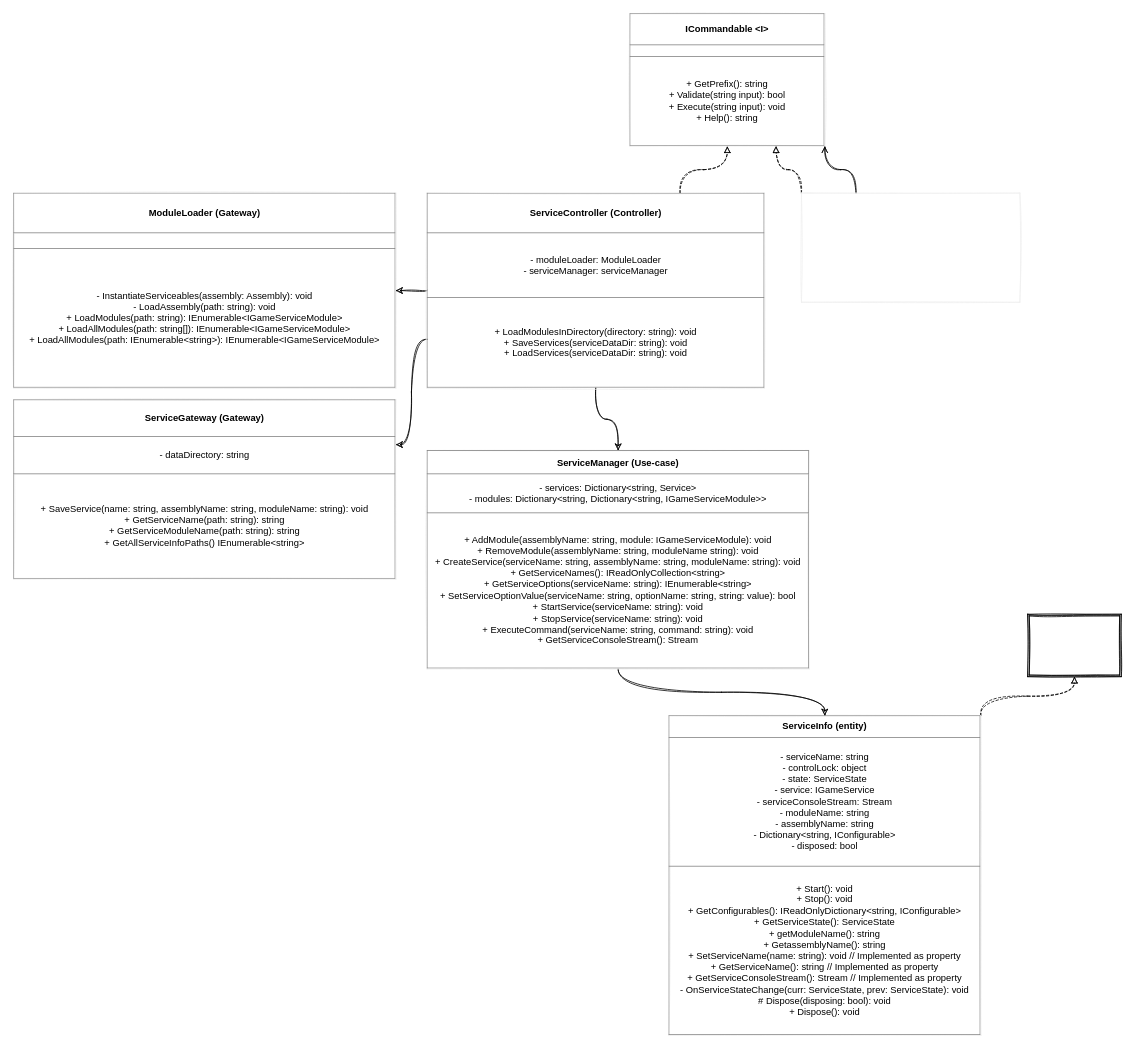
The diagram is 1135 pixels wide and 1049 high, and some of its shapes have lost their labels. Each missing label, with the centre of its shape:
CommandFork (Controller) - commands: Dictionary<string, ICommandable>: the point at 910,247
IDisposable: the point at 1074,645
